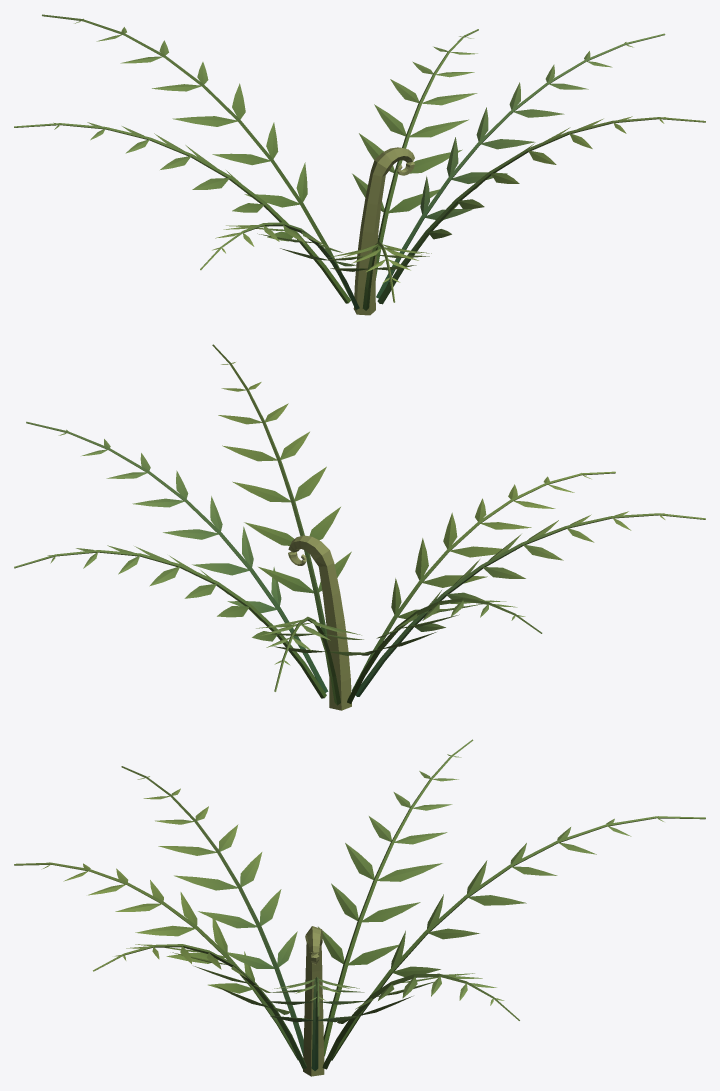
Rendered from ground_fern_b.glb.
3 renders of one model, top to bottom at view 1: azimuth 30°, elevation 25°; view 2: azimuth 150°, elevation 25°; view 3: azimuth 270°, elevation 25°, orthographic. The views are drawn at different scales.
Visible parts, largest first — view 1: ground_fern_b; view 2: ground_fern_b; view 3: ground_fern_b.
Part boxes in pixels (left/top/right/bottom): ground_fern_b: left=14, top=14, right=705, bottom=315; ground_fern_b: left=14, top=344, right=705, bottom=710; ground_fern_b: left=14, top=739, right=705, bottom=1076.
Size of the model in its own units: 1.25 by 0.4455 by 1.28.
